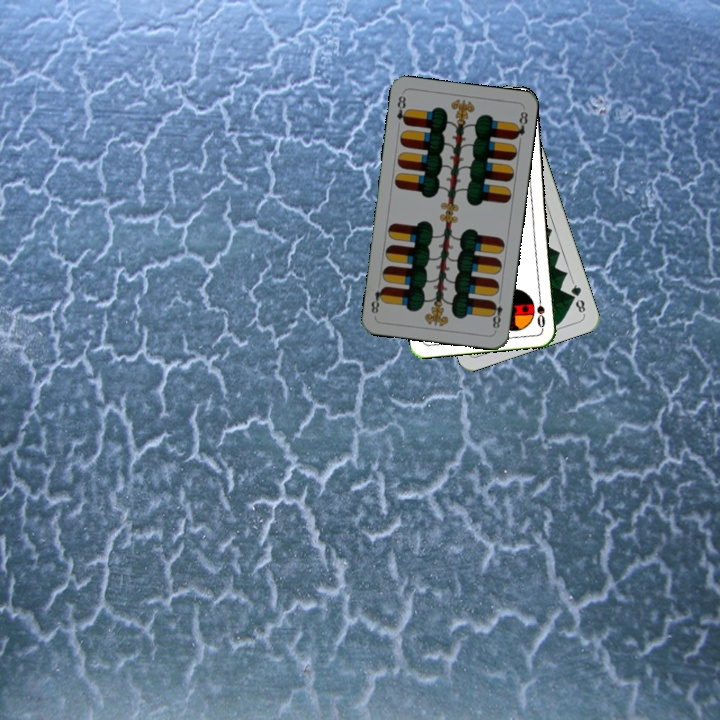E8: (487, 293, 505, 333), (393, 91, 411, 128)
G8: (567, 278, 588, 317)
SO: (532, 290, 548, 331)
